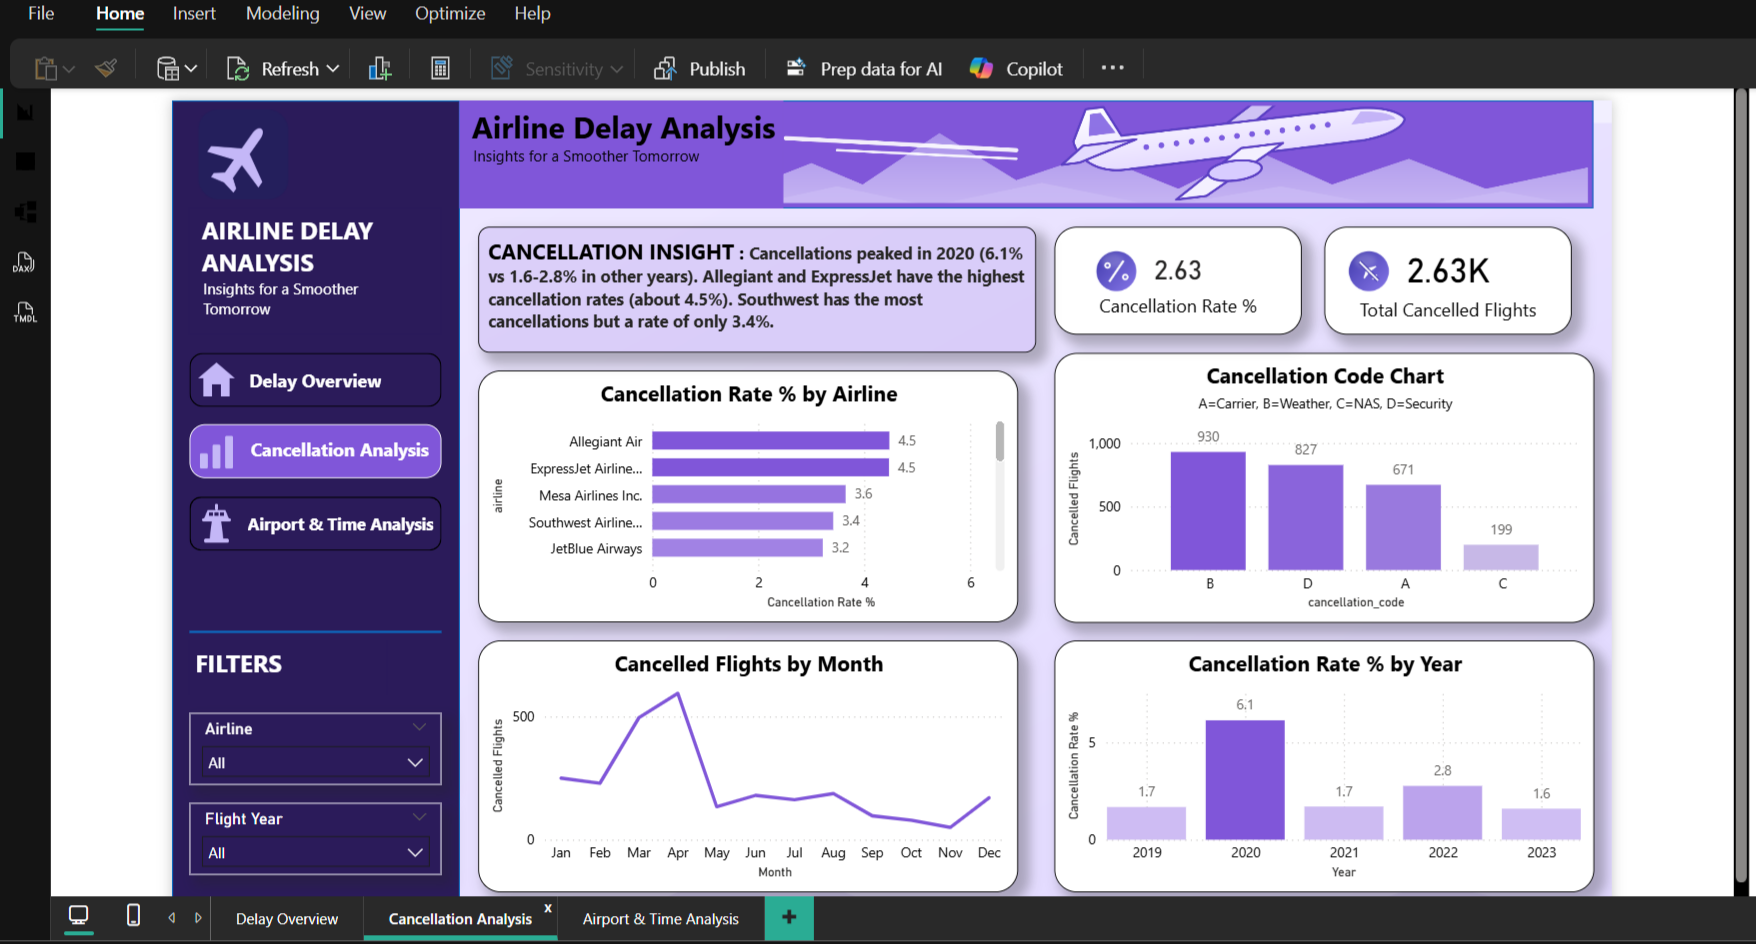

The dashboard page shown, as its layout file describes it:
{"tool":"powerbi","page":{"name":"Cancellation Analysis","canvas":[1280,720],"ordinal":1},"visuals":[{"type":"card","fields":{"Values":["Sum(public flights.cancelled)"]},"box":[1024,112,220,96],"z":0},{"type":"clusteredColumnChart","title":"Cancellation Code Chart","fields":{"Category":["public flights.cancellation_code"],"Y":["CountNonNull(public flights.fl_number)"]},"box":[784,224,480,240],"z":1000},{"type":"clusteredBarChart","title":"Cancellation Rate % by Airline","fields":{"Category":["public flights.airline"],"Y":["public flights.Cancellation Rate %"]},"box":[272,240,480,224],"z":2000},{"type":"lineChart","title":"Cancelled Flights by Month","fields":{"Y":["public flights.Cancelled Flights"],"Category":["public flights.Month Short"]},"box":[272,480,480,224],"z":3000},{"type":"shape","box":[0,0,256,720],"z":4000},{"type":"slicer","fields":{"Values":["public flights.airline"]},"box":[16,544,224,64],"z":5000},{"type":"card","fields":{"Values":["public flights.Cancellation Rate"]},"box":[784,112,220,96],"z":6000},{"type":"shape","box":[256,0,1008,96],"z":7000},{"type":"image","box":[496,0,768,96],"z":8000},{"type":"textbox","box":[16,96,224,112],"z":9000},{"type":"textbox","box":[256,0,288,96],"z":10000},{"type":"image","box":[16,0,96,96],"z":11000},{"type":"actionButton","box":[16,224,224,48],"z":12000},{"type":"image","box":[16,224,48,48],"z":13000},{"type":"textbox","box":[16,288,224,48],"z":14000},{"type":"image","box":[16,288,48,48],"z":15000},{"type":"textbox","box":[16,480,176,48],"z":16000},{"type":"textbox","box":[272,112,496,112],"z":17000},{"type":"image","box":[816,128,48,48],"z":18000},{"type":"image","box":[1040,128,48,48],"z":19000},{"type":"shape","box":[16,464,224,16],"z":20000},{"type":"slicer","fields":{"Values":["public flights.Flight Year"]},"box":[16,624,224,64],"z":21000},{"type":"clusteredColumnChart","title":"Cancellation Rate % by Year","fields":{"Category":["public flights.Flight Year"],"Y":["public flights.Cancellation Rate %"]},"box":[784,480,480,224],"z":22000},{"type":"actionButton","box":[16,352,224,48],"z":23000},{"type":"image","box":[16,352,48,48],"z":23001}]}

Visuals, with their boxes on the page's 1280x720 design canvas (x1, y1, x2, y2). These are canvas units, not pixel positions in the 1756x944 screenshot, which may show the page scaled, cropped or inside an application window:
card - Sum(public flights.cancelled): detection(1024, 112, 1244, 208)
"Cancellation Code Chart" clusteredColumnChart: detection(784, 224, 1264, 464)
"Cancellation Rate % by Airline" clusteredBarChart: detection(272, 240, 752, 464)
"Cancelled Flights by Month" lineChart: detection(272, 480, 752, 704)
shape: detection(0, 0, 256, 720)
slicer - public flights.airline: detection(16, 544, 240, 608)
card - public flights.Cancellation Rate: detection(784, 112, 1004, 208)
shape: detection(256, 0, 1264, 96)
image: detection(496, 0, 1264, 96)
textbox: detection(16, 96, 240, 208)
textbox: detection(256, 0, 544, 96)
image: detection(16, 0, 112, 96)
actionButton: detection(16, 224, 240, 272)
image: detection(16, 224, 64, 272)
textbox: detection(16, 288, 240, 336)
image: detection(16, 288, 64, 336)
textbox: detection(16, 480, 192, 528)
textbox: detection(272, 112, 768, 224)
image: detection(816, 128, 864, 176)
image: detection(1040, 128, 1088, 176)
shape: detection(16, 464, 240, 480)
slicer - public flights.Flight Year: detection(16, 624, 240, 688)
"Cancellation Rate % by Year" clusteredColumnChart: detection(784, 480, 1264, 704)
actionButton: detection(16, 352, 240, 400)
image: detection(16, 352, 64, 400)
